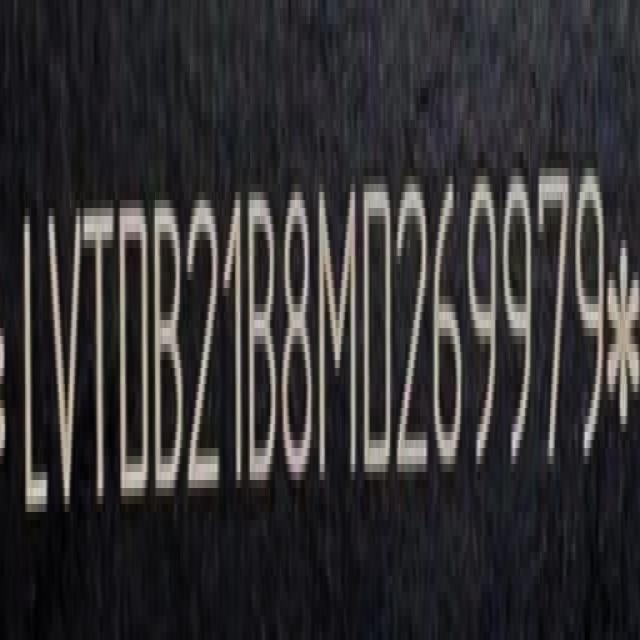1: (224, 192, 245, 504)
2: (188, 193, 224, 508), (396, 179, 430, 485)
6: (432, 181, 464, 480)
7: (539, 162, 575, 472)
8: (284, 187, 316, 493)
9: (468, 176, 500, 478), (505, 173, 536, 472), (575, 163, 605, 465)
B: (153, 195, 185, 514), (250, 190, 280, 497)
D: (116, 188, 150, 514), (362, 177, 395, 488)
L: (17, 200, 49, 538)
M: (317, 177, 359, 492)
T: (81, 195, 118, 528)
V: (46, 193, 83, 530)
